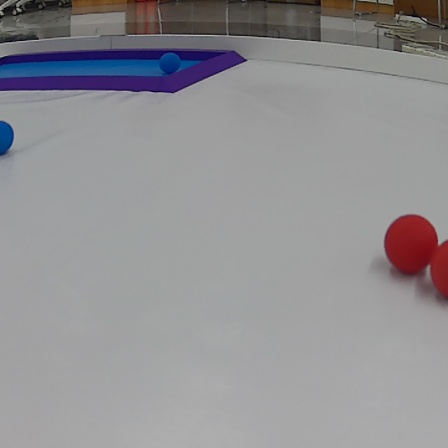blue: (0, 121, 15, 157), (159, 51, 182, 72)
blue_aim: (0, 44, 246, 97)
red: (375, 211, 437, 268), (432, 234, 447, 304)
